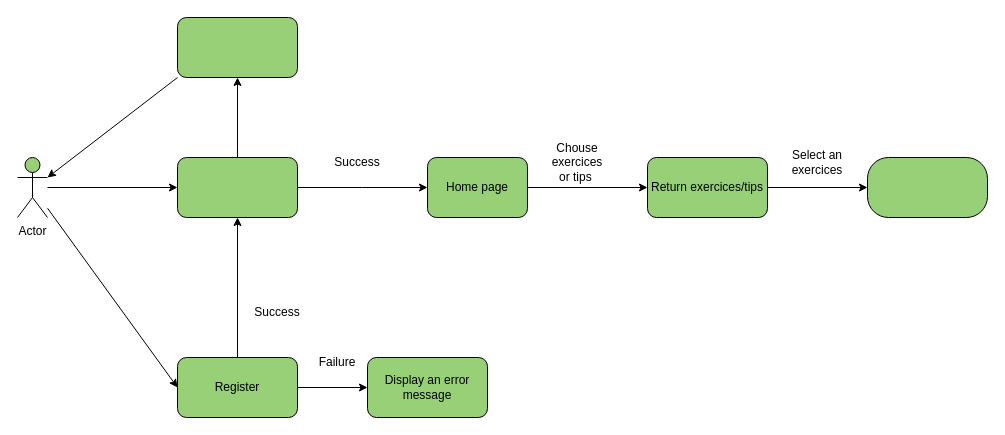
Some shapes in this 1005 by 435 pixel diagram are drawn without their labels. The centre of each missing label's shape, as x and y in pixels:
"Login" belongs at point (237, 187).
"Logout" belongs at point (237, 47).
"Provide details (how to do that tipe of exercice or tips)" belongs at point (927, 187).
